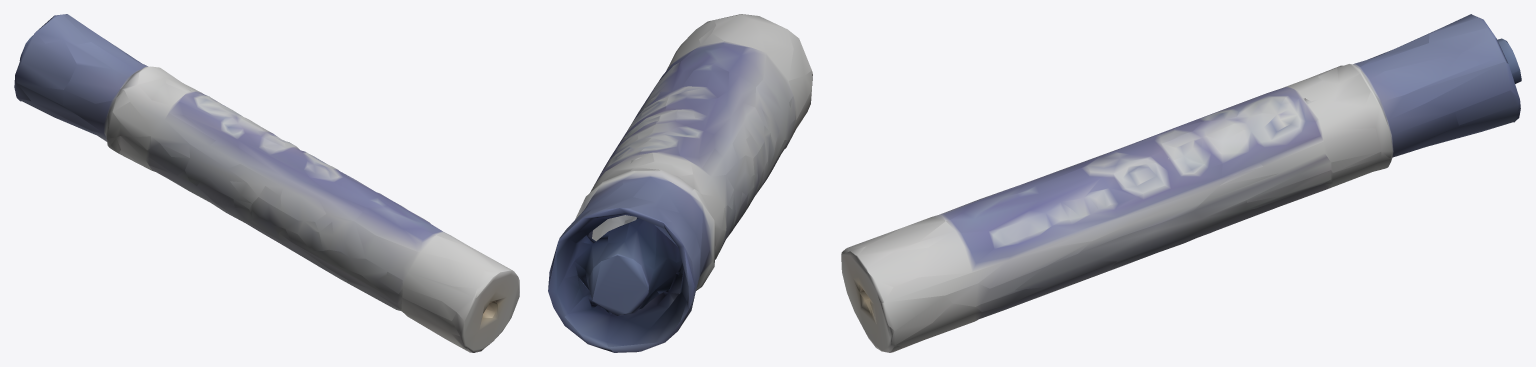
The model's file is 0011_mask_012_blue_marker.glb.
3 views of the same model, side by side, from view 1: azimuth 30°, elevation 25°; view 2: azimuth 150°, elevation 25°; view 3: azimuth 270°, elevation 25° (orthographic). The views are drawn at different scales.
Parts seen in each view (by area): view 1: mask_012_object; view 2: mask_012_object; view 3: mask_012_object.
Boxes of the visible parts, x1,y1,x2,y2 form: mask_012_object: (14, 14, 519, 352); mask_012_object: (548, 14, 812, 352); mask_012_object: (841, 14, 1521, 352).
Size of the model in its own units: 0.0854 by 0.06 by 0.1623.
